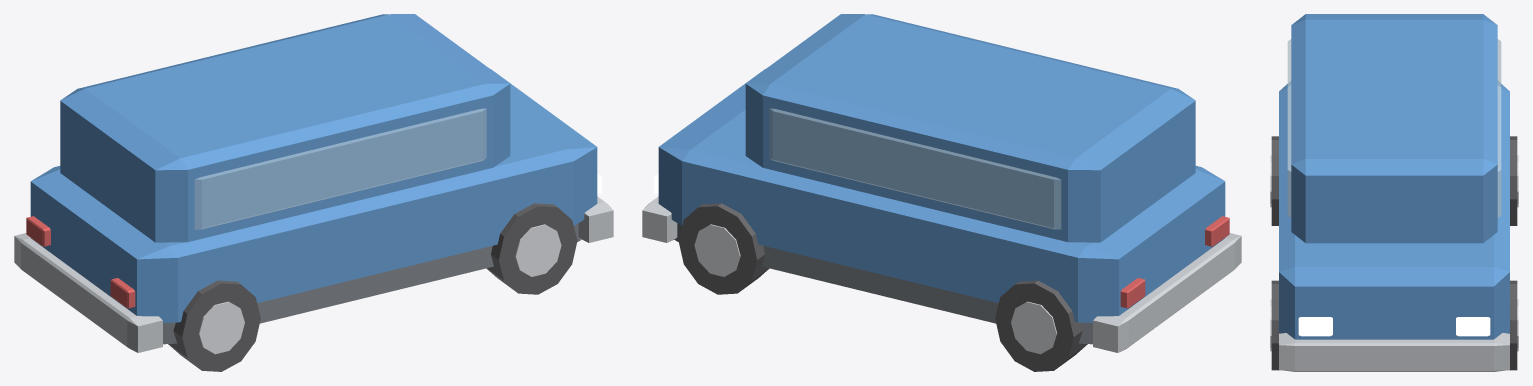
File: b03_compact_square_suv.glb
3 views of the same model, side by side, from view 1: azimuth 30°, elevation 25°; view 2: azimuth 150°, elevation 25°; view 3: azimuth 270°, elevation 25° (orthographic). The views are drawn at different scales.
Parts seen in each view (by area): view 1: b03_compact_square_suv; view 2: b03_compact_square_suv; view 3: b03_compact_square_suv.
Boxes of the visible parts, x1,y1,x2,y2 form: b03_compact_square_suv: [14, 14, 613, 371]; b03_compact_square_suv: [642, 14, 1241, 371]; b03_compact_square_suv: [1270, 14, 1518, 371].
Size of the model in its own units: 4.74 by 1.95 by 2.28.
